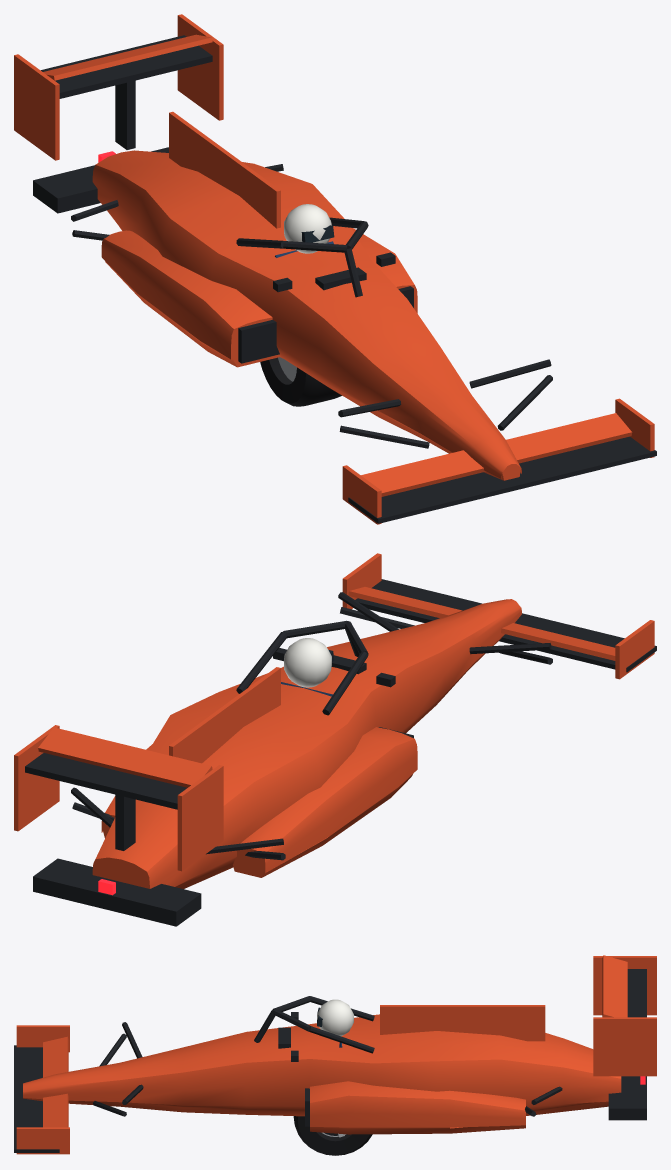
3 views of the same model, one above another, from view 1: azimuth 30°, elevation 25°; view 2: azimuth 150°, elevation 25°; view 3: azimuth 270°, elevation 25° (orthographic). The views are drawn at different scales.
Parts seen in each view (by area): view 1: body, wheel; view 2: body; view 3: body, wheel.
Boxes of the visible parts, box(x1,y1,x2,y2) form: body: box(14, 14, 656, 524); wheel: box(260, 357, 341, 406); body: box(14, 553, 656, 926); body: box(14, 955, 656, 1154); wheel: box(293, 1116, 372, 1155).
Bounding box in the file's own units: 1.94 × 1.42 × 5.06.
